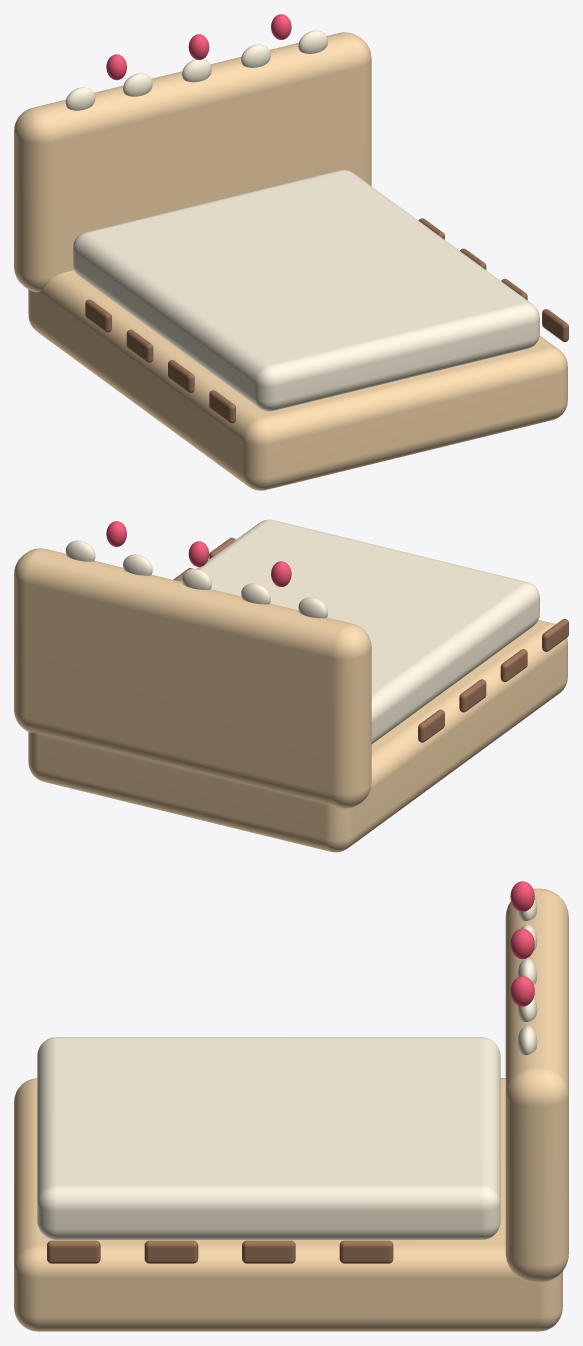
The model's file is 蛋糕奶油床.fbx.
3 renders of one model, top to bottom at view 1: azimuth 30°, elevation 25°; view 2: azimuth 150°, elevation 25°; view 3: azimuth 270°, elevation 25°, orthographic. The views are drawn at different scales.
Visible parts, largest first — view 1: 蛋糕奶油床_奶油床垫, 蛋糕奶油床_蛋糕靠背, 蛋糕奶油床_蛋糕胚床架; view 2: 蛋糕奶油床_蛋糕靠背, 蛋糕奶油床_奶油床垫, 蛋糕奶油床_蛋糕胚床架, 蛋糕奶油床_巧克力侧线.004, 蛋糕奶油床_巧克力侧线.002, 蛋糕奶油床_巧克力侧线, 蛋糕奶油床_巧克力侧线.006, 蛋糕奶油床_靠背奶油球.004, 蛋糕奶油床_靠背奶油球.003, 蛋糕奶油床_靠背奶油球, 蛋糕奶油床_靠背奶油球.001, 蛋糕奶油床_靠背奶油球.002 (+3 smaller); view 3: 蛋糕奶油床_奶油床垫, 蛋糕奶油床_蛋糕胚床架, 蛋糕奶油床_蛋糕靠背, 蛋糕奶油床_巧克力侧线.007, 蛋糕奶油床_巧克力侧线.003, 蛋糕奶油床_巧克力侧线.001, 蛋糕奶油床_巧克力侧线.005, 蛋糕奶油床_草莓点缀.001, 蛋糕奶油床_草莓点缀, 蛋糕奶油床_草莓点缀.002.
Boxes of the visible parts, box(x1,y1,x2,y2) form: 蛋糕奶油床_奶油床垫: box(73, 170, 539, 411); 蛋糕奶油床_蛋糕靠背: box(14, 32, 371, 292); 蛋糕奶油床_蛋糕胚床架: box(28, 270, 567, 490); 蛋糕奶油床_蛋糕靠背: box(14, 548, 371, 808); 蛋糕奶油床_奶油床垫: box(179, 519, 539, 743); 蛋糕奶油床_蛋糕胚床架: box(28, 620, 567, 852); 蛋糕奶油床_巧克力侧线.004: box(459, 679, 486, 712); 蛋糕奶油床_巧克力侧线.002: box(500, 649, 527, 681); 蛋糕奶油床_巧克力侧线: box(542, 619, 568, 651); 蛋糕奶油床_巧克力侧线.006: box(418, 709, 444, 742); 蛋糕奶油床_靠背奶油球.004: box(65, 540, 95, 561); 蛋糕奶油床_靠背奶油球.003: box(123, 554, 152, 575); 蛋糕奶油床_靠背奶油球: box(298, 597, 327, 618); 蛋糕奶油床_靠背奶油球.001: box(241, 583, 270, 604); 蛋糕奶油床_靠背奶油球.002: box(182, 569, 211, 589); 蛋糕奶油床_奶油床垫: box(37, 1037, 500, 1239); 蛋糕奶油床_蛋糕胚床架: box(14, 1078, 562, 1331); 蛋糕奶油床_蛋糕靠背: box(505, 888, 568, 1282); 蛋糕奶油床_巧克力侧线.007: box(339, 1240, 393, 1263); 蛋糕奶油床_巧克力侧线.003: box(144, 1240, 198, 1263); 蛋糕奶油床_巧克力侧线.001: box(47, 1240, 100, 1263); 蛋糕奶油床_巧克力侧线.005: box(242, 1240, 295, 1263); 蛋糕奶油床_草莓点缀.001: box(510, 928, 534, 959); 蛋糕奶油床_草莓点缀: box(510, 881, 534, 911); 蛋糕奶油床_草莓点缀.002: box(510, 976, 534, 1006).
Size of the model in its own units: 195 by 144 by 228.
